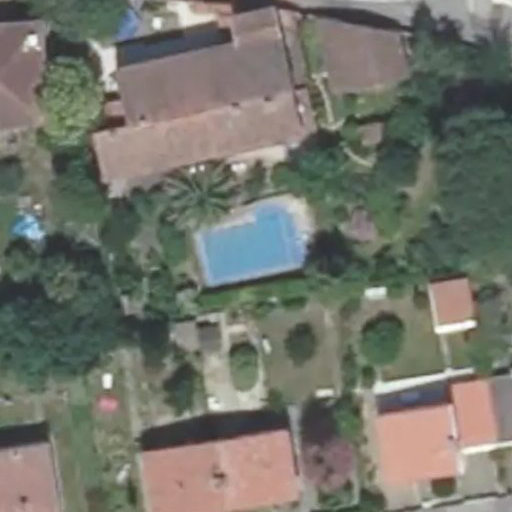pool: (204, 219, 305, 262)
